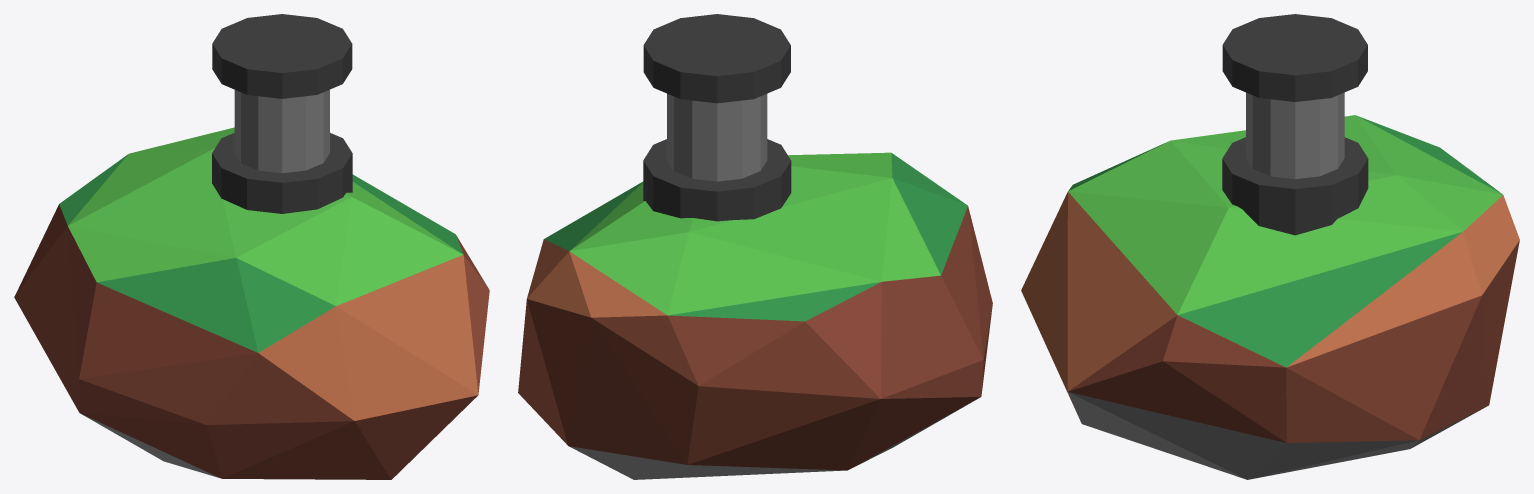
File: Light4.glb
The picture shows the model from 3 angles, left to right: view 1: azimuth 30°, elevation 25°; view 2: azimuth 150°, elevation 25°; view 3: azimuth 270°, elevation 25°; orthographic projection. The views are drawn at different scales.
Visible parts, largest first — view 1: Icosphere, Cylinder; view 2: Icosphere, Cylinder; view 3: Icosphere, Cylinder.
Part boxes in pixels (x1,y1,x2,y2): Icosphere: (14, 127, 489, 479); Cylinder: (212, 14, 352, 213); Icosphere: (518, 152, 992, 479); Cylinder: (643, 14, 791, 221); Icosphere: (1021, 115, 1519, 479); Cylinder: (1222, 14, 1368, 235).
Bounding box in the file's own units: 3.26 × 2.97 × 3.42.
Materials: 1 (1 with a texture image).
